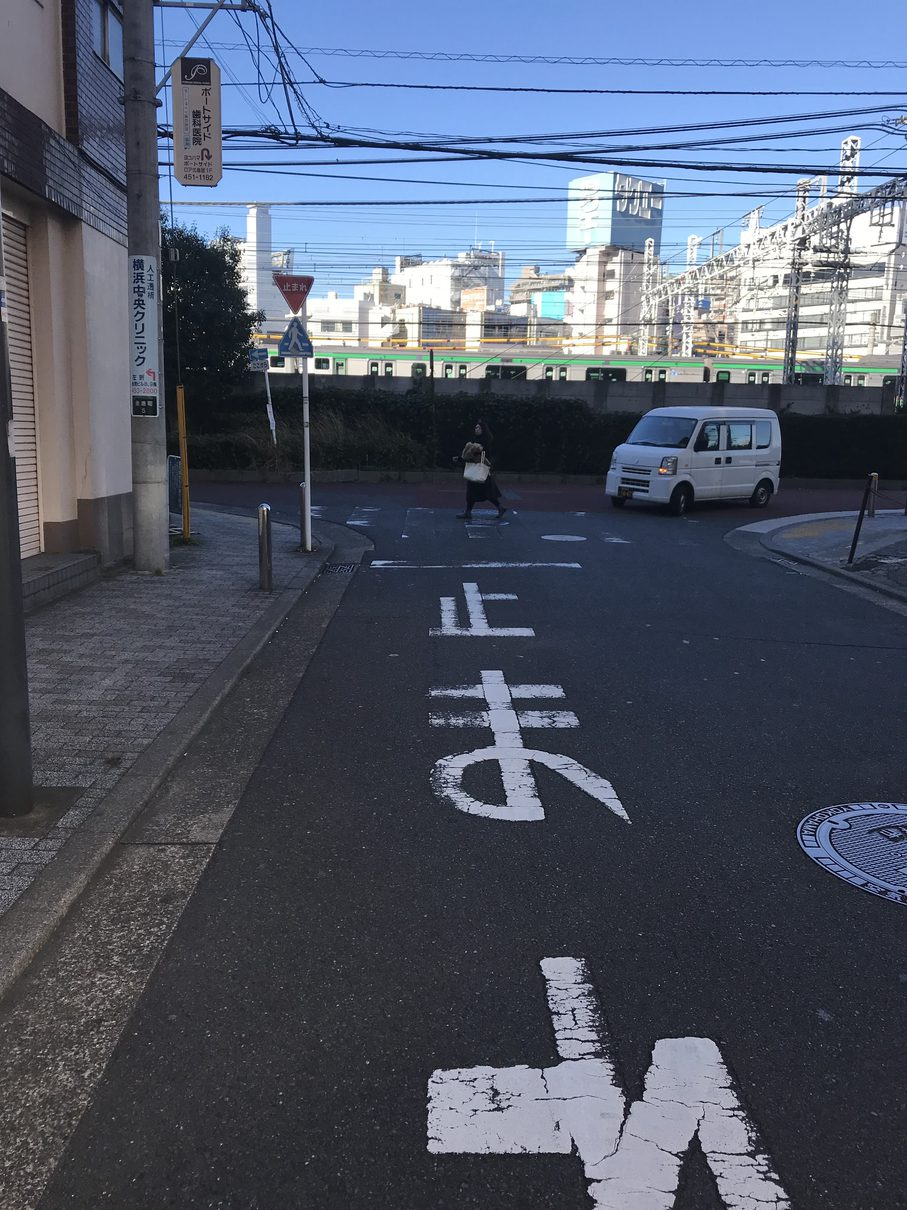stop_sign: (270, 269, 315, 316)
